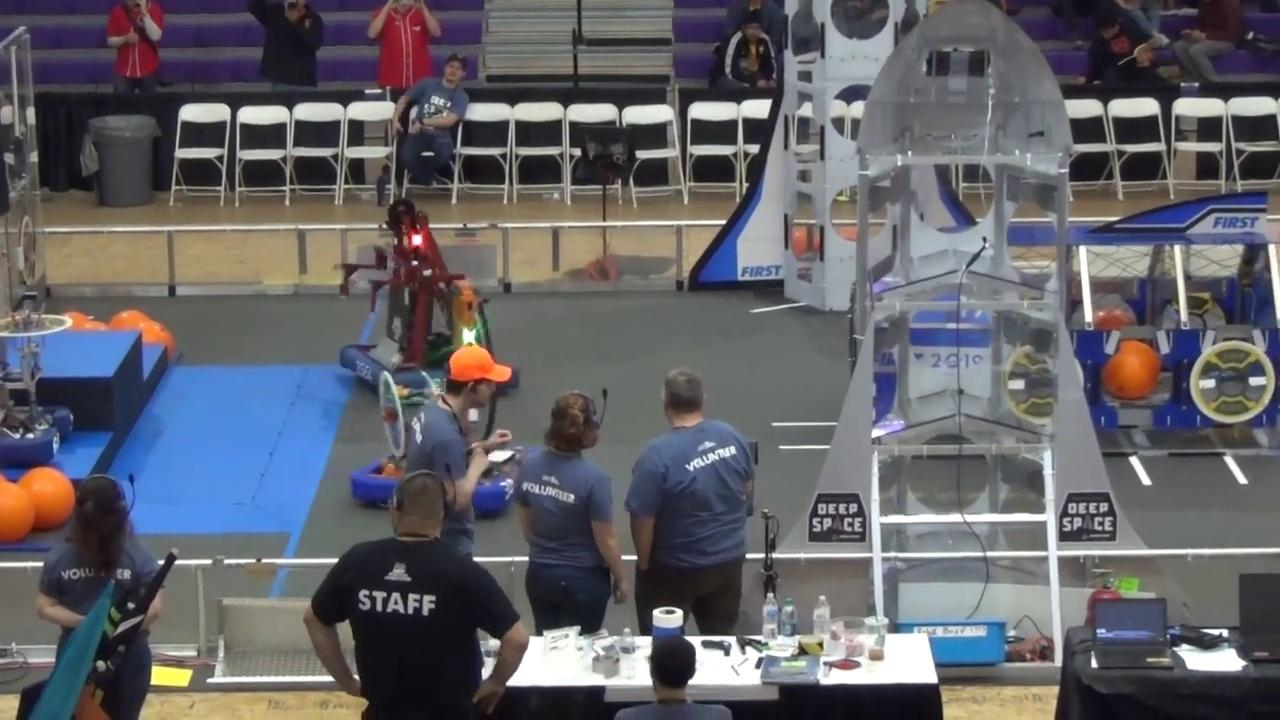robot: (336, 197, 523, 397), (346, 369, 523, 517), (0, 336, 72, 463)
